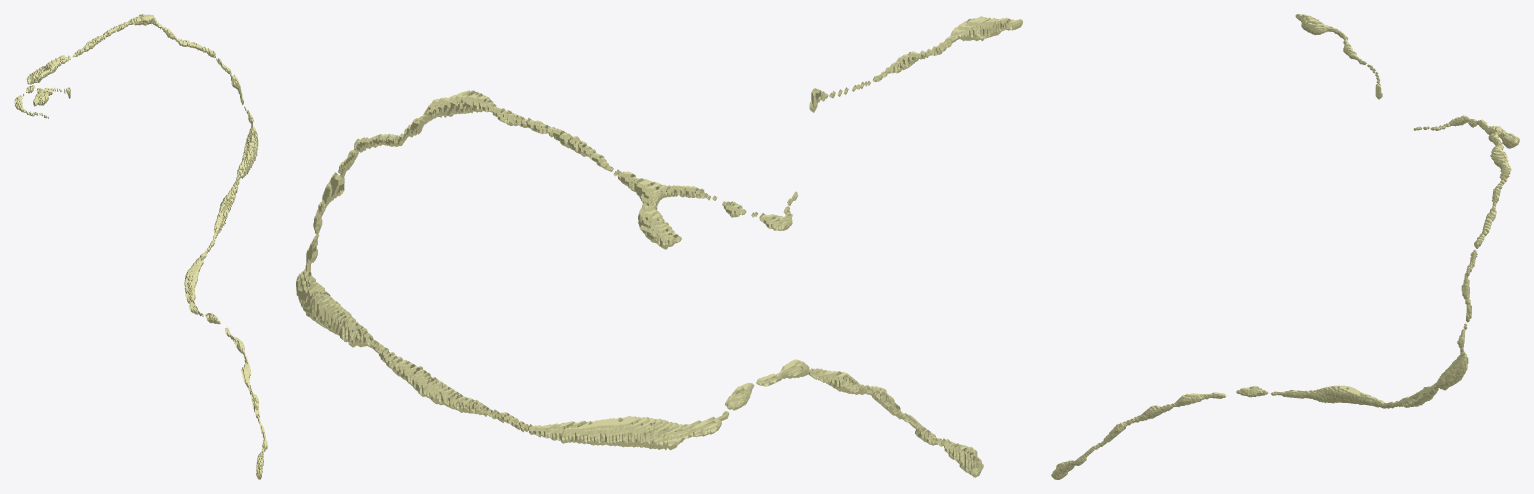
The model's file is SVV_SAAVL.gltf.
The picture shows the model from 3 angles, left to right: view 1: azimuth 30°, elevation 25°; view 2: azimuth 150°, elevation 25°; view 3: azimuth 270°, elevation 25°; orthographic projection. The views are drawn at different scales.
Parts seen in each view (by area): view 1: SAAVL; view 2: SAAVL; view 3: SAAVL.
Part boxes in pixels (bbox=[...]): SAAVL: bbox=[14, 14, 267, 479]; SAAVL: bbox=[296, 16, 1022, 477]; SAAVL: bbox=[1051, 14, 1519, 479].
Size of the model in its own units: 151712 by 165583 by 177460.
